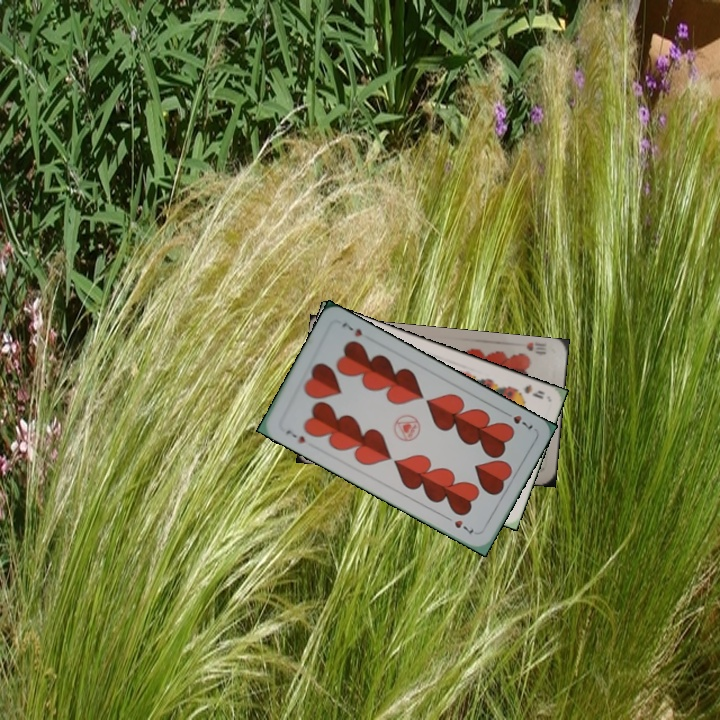H10: (522, 339, 548, 358)
H7: (499, 407, 536, 432), (282, 425, 308, 446)
S9: (508, 381, 548, 402)
